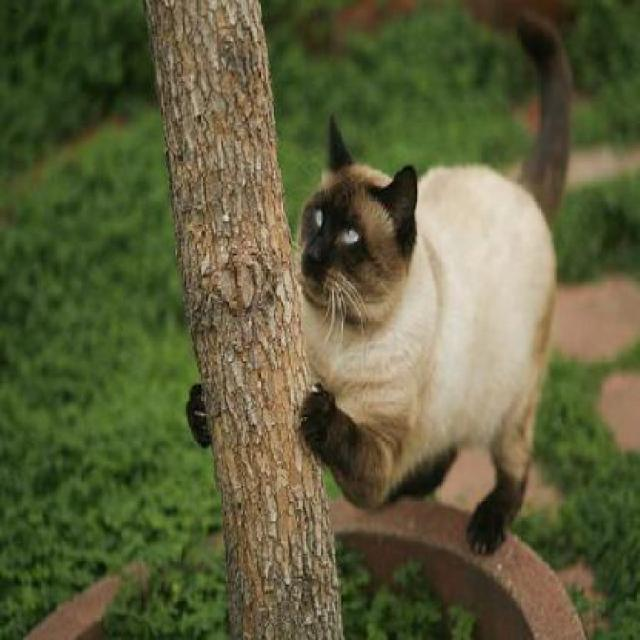cat: (185, 15, 573, 560)
